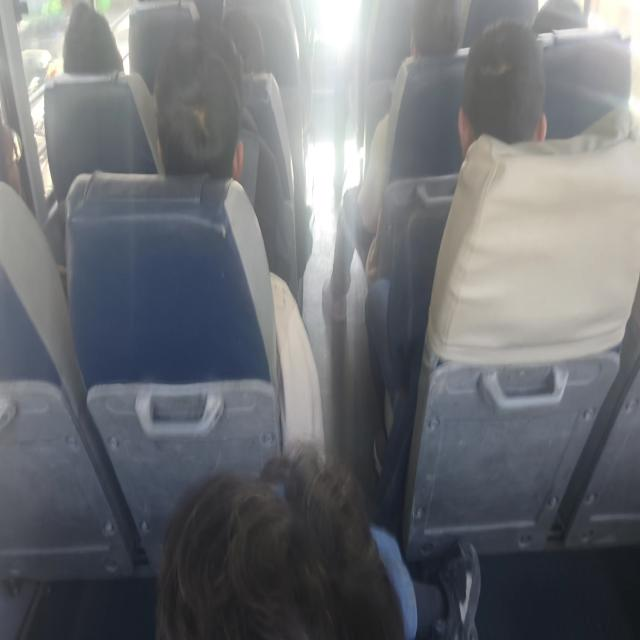person: (156, 444, 422, 636), (442, 30, 558, 166), (146, 49, 255, 187), (37, 0, 127, 89), (210, 14, 276, 82), (519, 0, 595, 49), (0, 106, 38, 203), (407, 0, 453, 74)
